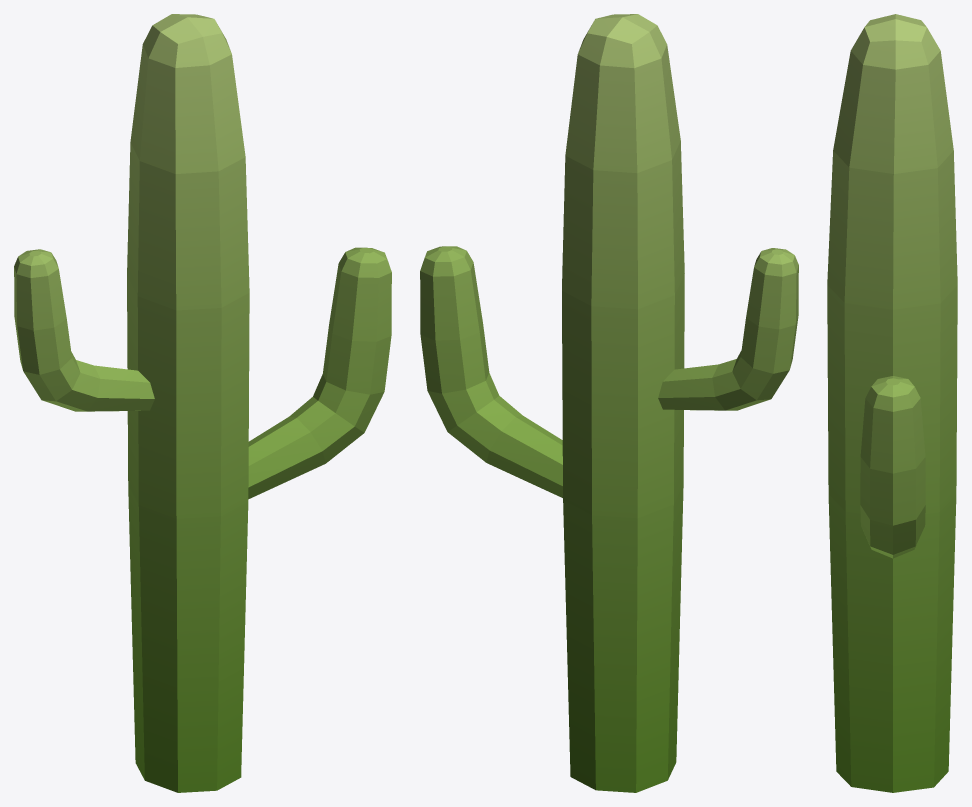
Rendered from cactus 3.fbx.
The picture shows the model from 3 angles, left to right: view 1: azimuth 30°, elevation 25°; view 2: azimuth 150°, elevation 25°; view 3: azimuth 270°, elevation 25°; orthographic projection.
Visible parts, largest first — view 1: cactus 3; view 2: cactus 3; view 3: cactus 3.
Part boxes in pixels (<box>): cactus 3: <box>14,14,391,792</box>; cactus 3: <box>420,14,798,792</box>; cactus 3: <box>827,14,957,792</box>.
Bounding box in the file's own units: 127 × 245 × 38.56.
